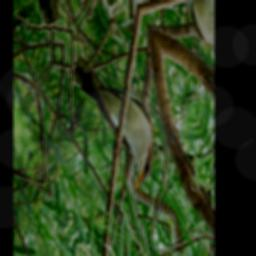Cuckoo: (67, 21, 166, 199)
